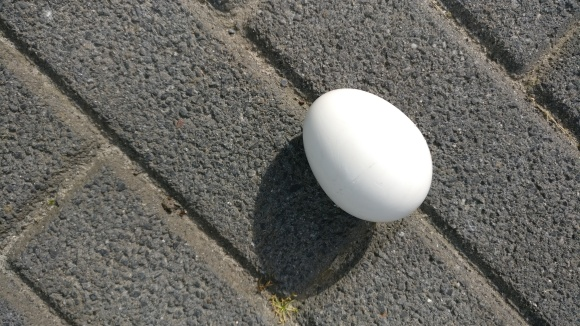egg: (302, 87, 432, 224)
